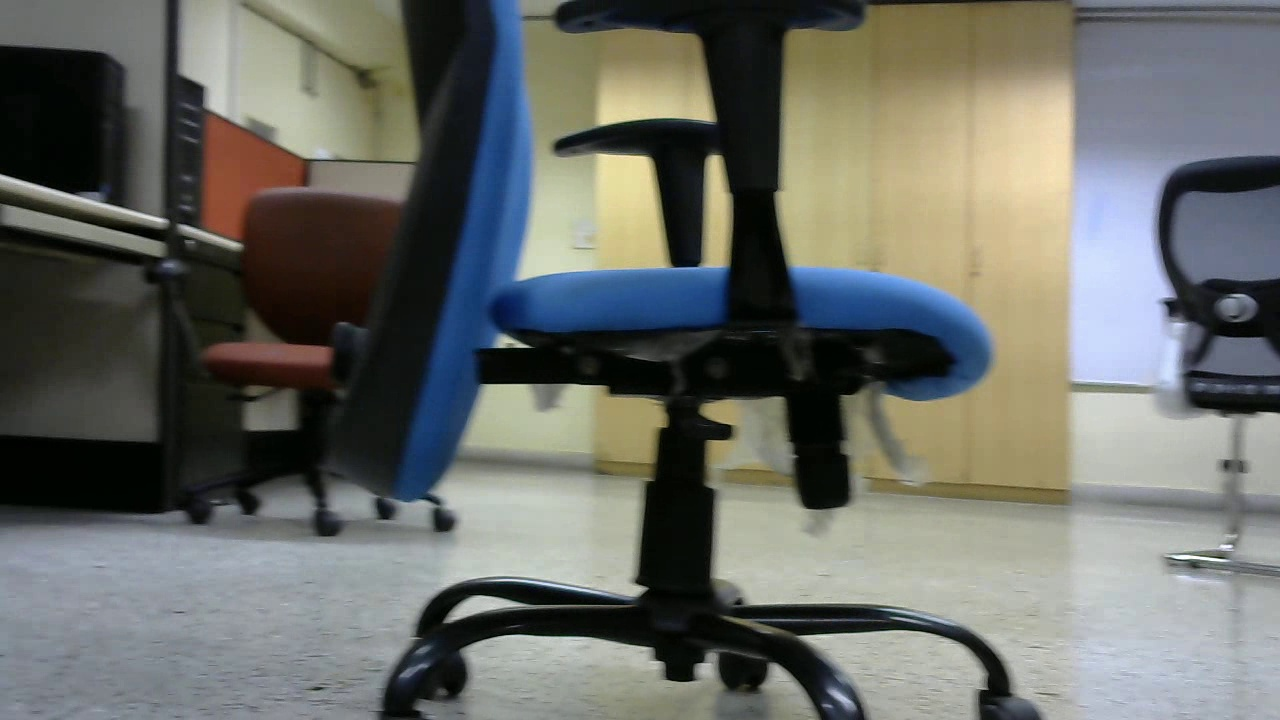chair: (132, 187, 460, 537)
